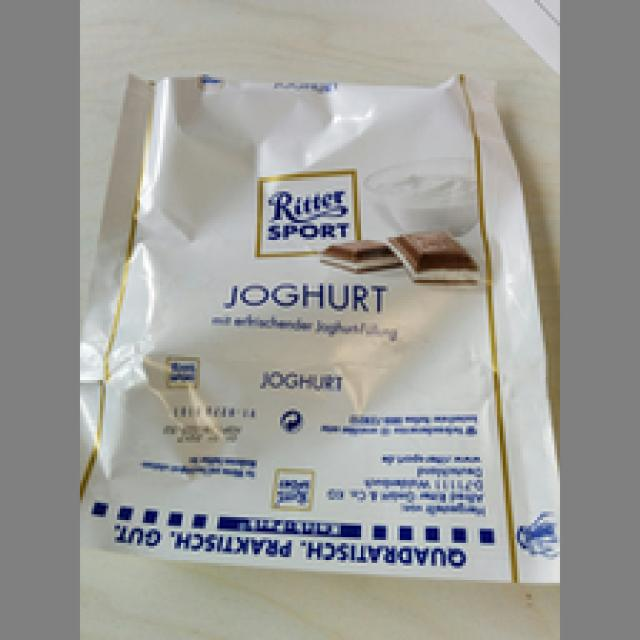groceries: (103, 77, 546, 583)
